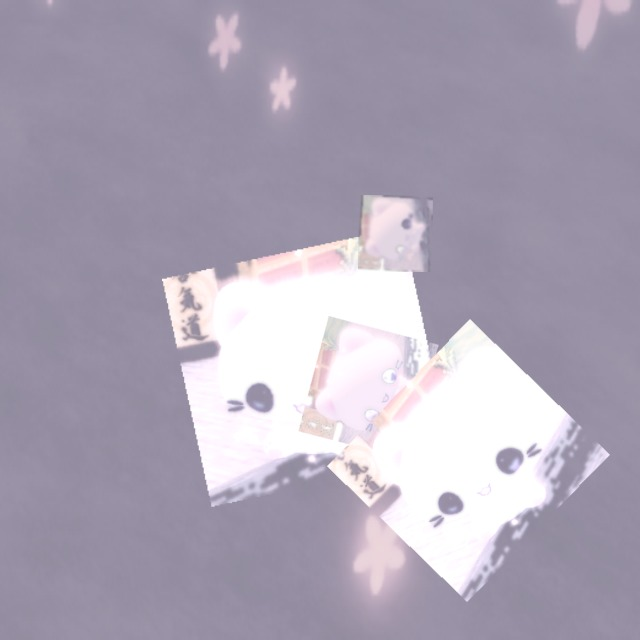urso_branco: (162, 226, 452, 508), (327, 319, 610, 602), (298, 316, 439, 460), (358, 195, 433, 272)
